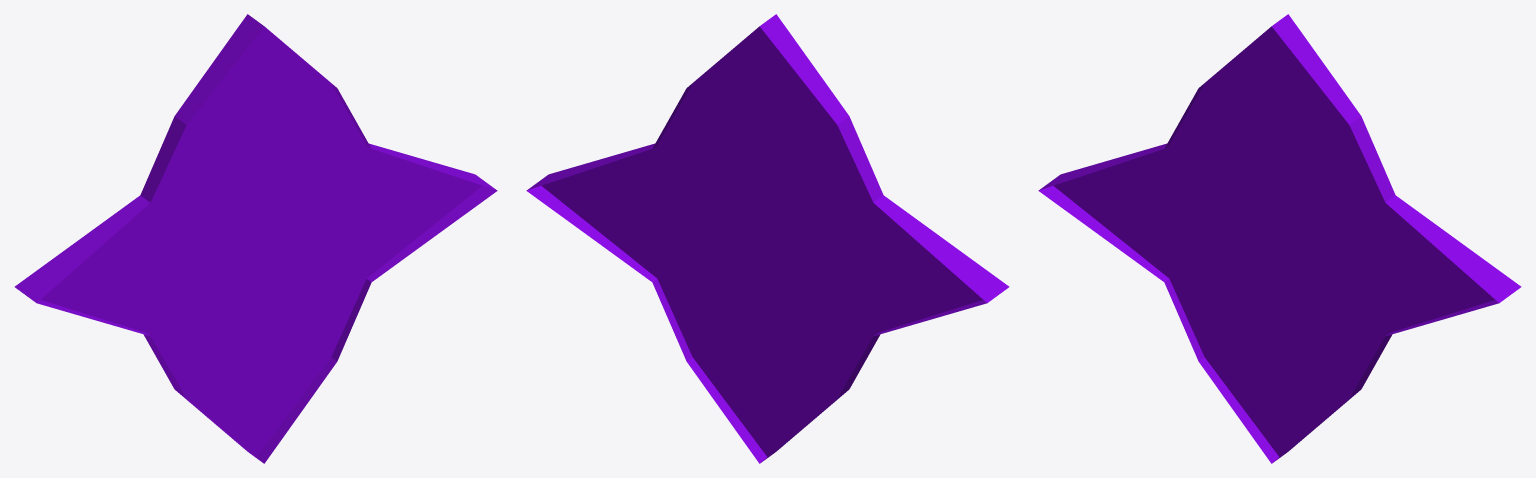
File: bad_portal.fbx
3 views of the same model, side by side, from view 1: azimuth 30°, elevation 25°; view 2: azimuth 150°, elevation 25°; view 3: azimuth 330°, elevation 25° (orthographic).
Parts seen in each view (by area): view 1: Cylinder; view 2: Cylinder; view 3: Cylinder.
Part boxes in pixels (left/top/right/bottom): Cylinder: left=14, top=14, right=497, bottom=463; Cylinder: left=526, top=14, right=1009, bottom=463; Cylinder: left=1038, top=14, right=1521, bottom=463.
Size of the model in its own units: 916 by 831 by 76.92.
